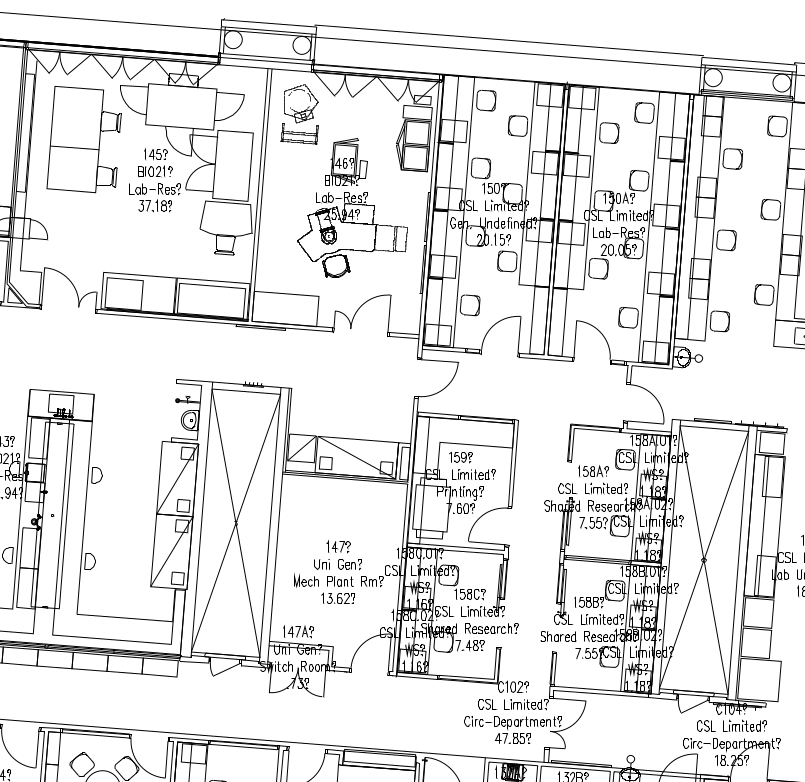door: (39, 262, 100, 316), (332, 287, 393, 341), (263, 663, 331, 710), (541, 695, 594, 755), (565, 314, 618, 365), (619, 376, 672, 427), (410, 355, 464, 403), (470, 310, 524, 358), (344, 629, 393, 679), (459, 499, 509, 547), (722, 737, 773, 782), (656, 737, 707, 782), (125, 734, 168, 782), (286, 734, 329, 782), (1, 724, 43, 772), (422, 750, 464, 782)
